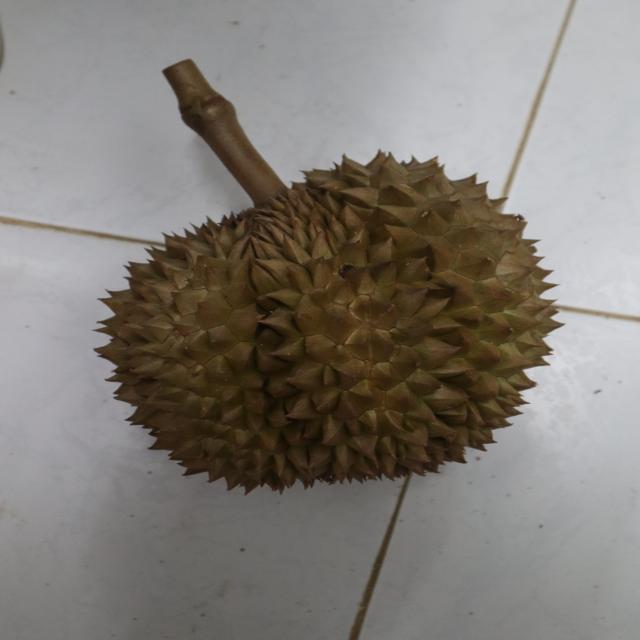mature: (100, 146, 567, 488)
